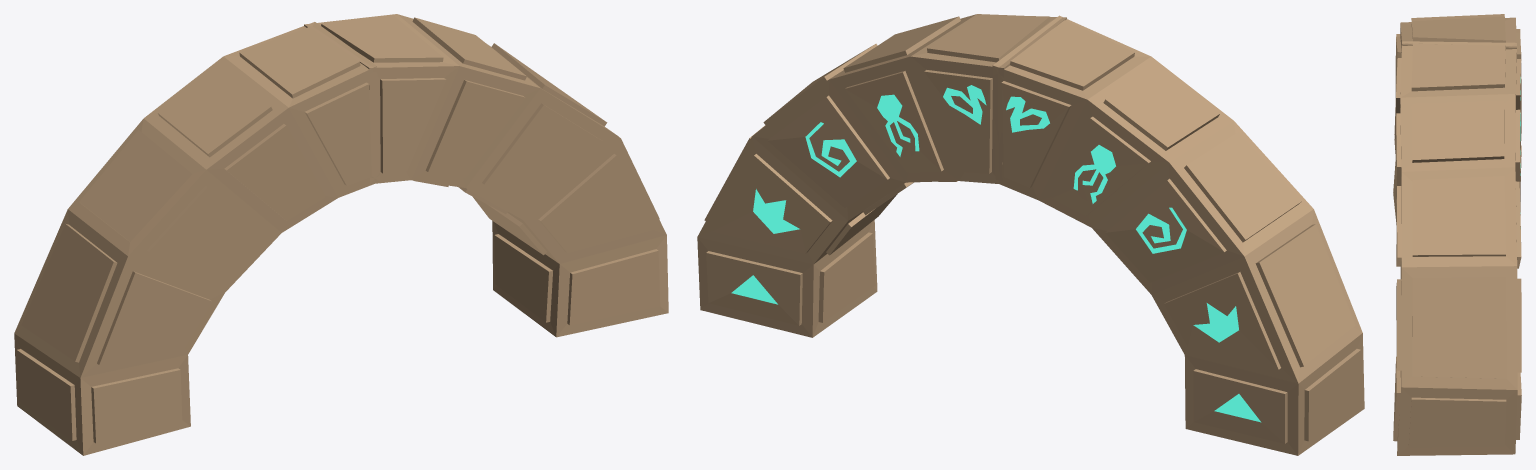
The model's file is Bow.glb.
3 views of the same model, side by side, from view 1: azimuth 30°, elevation 25°; view 2: azimuth 150°, elevation 25°; view 3: azimuth 270°, elevation 25° (orthographic). The views are drawn at different scales.
Visible parts, largest first — view 1: Bow.001; view 2: Bow.001; view 3: Bow.001.
Boxes of the visible parts, x1=… form: Bow.001: x1=14, y1=14, x2=668, y2=455; Bow.001: x1=697, y1=14, x2=1364, y2=455; Bow.001: x1=1393, y1=14, x2=1521, y2=455.
Size of the model in its own units: 10.79 by 5.56 by 2.23.
1 material, 1 textured.
